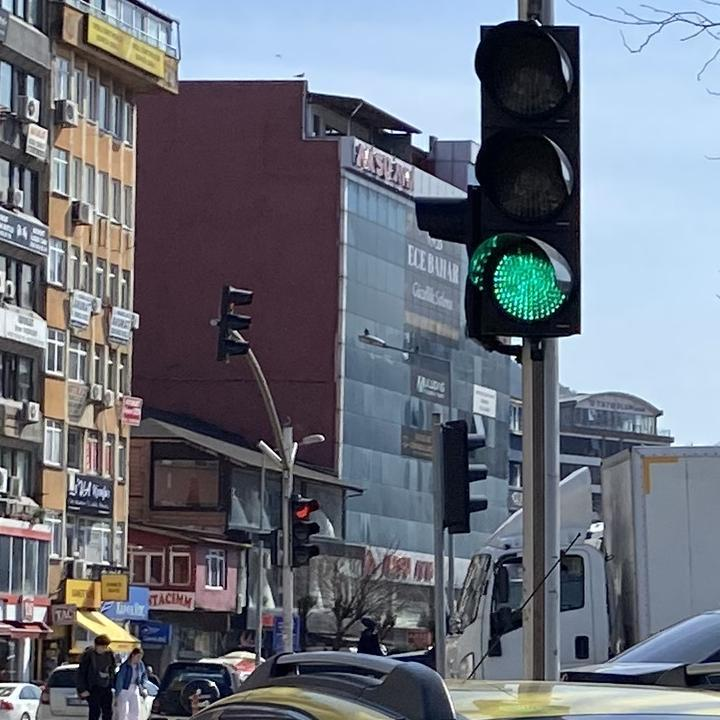green: (471, 19, 588, 341)
